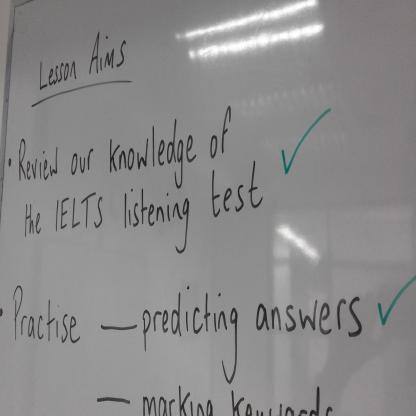Handwritten text: (4, 263, 379, 371), (21, 144, 263, 261), (0, 96, 253, 192), (137, 373, 340, 416), (31, 20, 136, 94)
